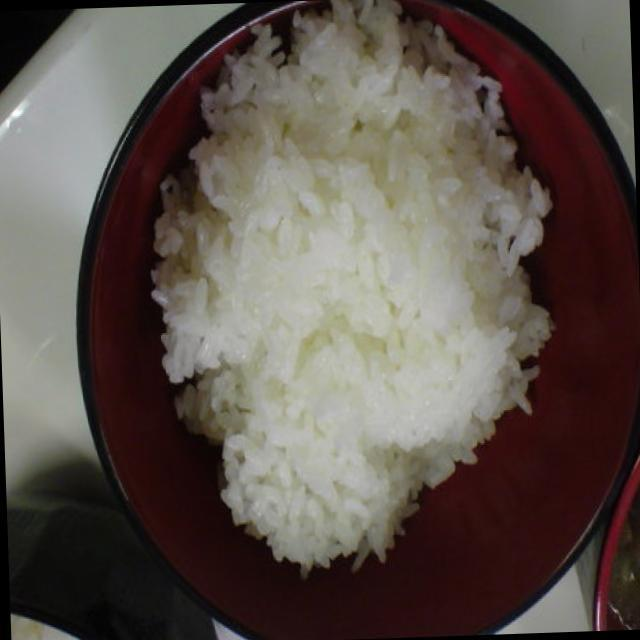Rice: (144, 40, 555, 594)
